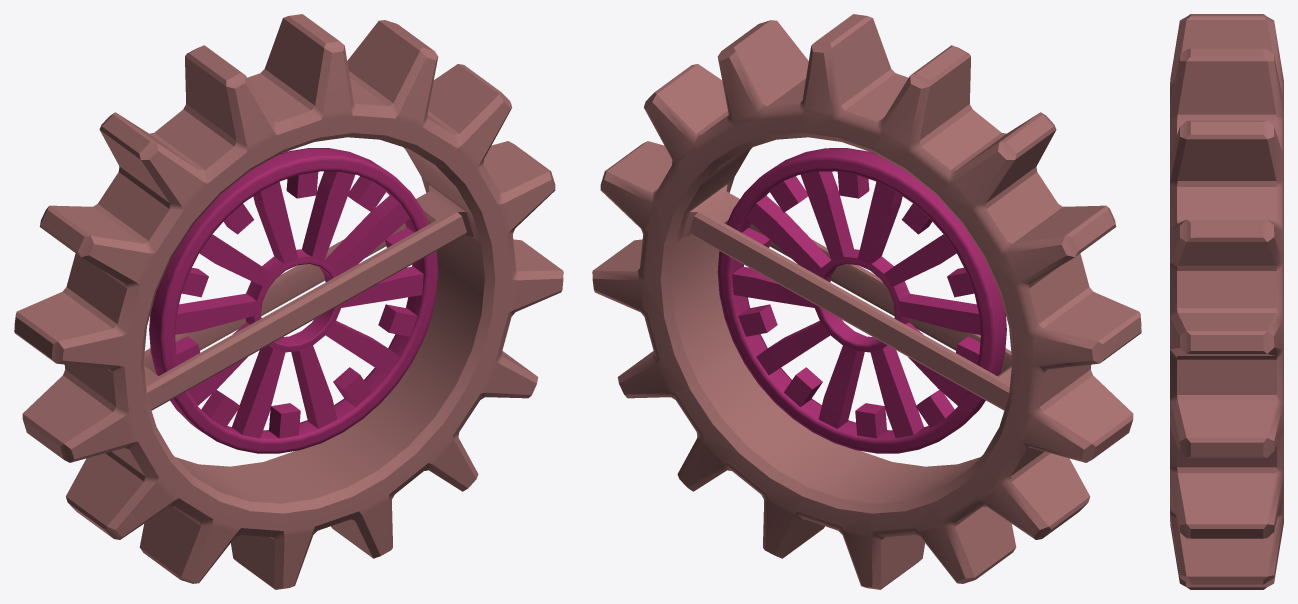
The model's file is medal_Silver.fbx.
3 views of the same model, side by side, from view 1: azimuth 30°, elevation 25°; view 2: azimuth 150°, elevation 25°; view 3: azimuth 270°, elevation 25° (orthographic). The views are drawn at different scales.
Parts seen in each view (by area): view 1: medal_gear_kan_pCylinder11; view 2: medal_gear_kan_pCylinder11; view 3: medal_gear_kan_pCylinder11.
Part boxes in pixels (x1,y1,x2,y2): medal_gear_kan_pCylinder11: (14,14,563,589); medal_gear_kan_pCylinder11: (592,14,1141,589); medal_gear_kan_pCylinder11: (1170,14,1283,589).
Bounding box in the file's own units: 2.88 × 2.88 × 0.5676.
